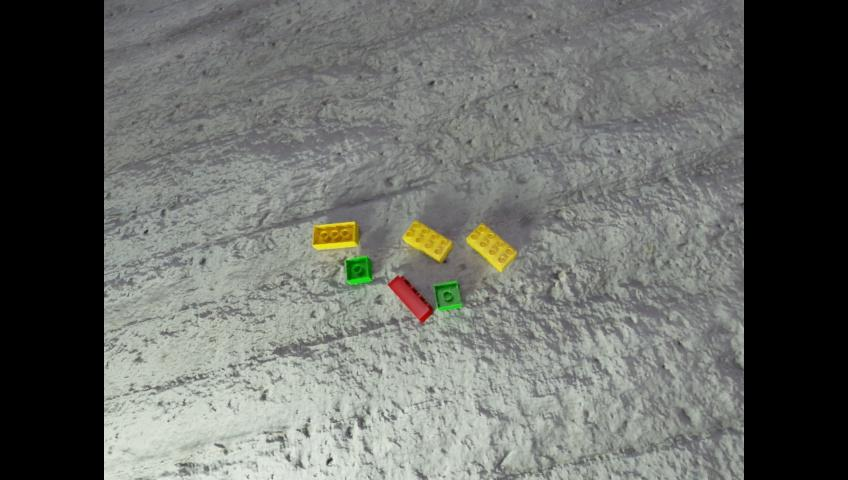2x2_green: (433, 280, 461, 310), (345, 255, 371, 283)
4x2_red: (387, 274, 432, 322)
4x2_yellow: (466, 222, 516, 271), (402, 219, 452, 263), (312, 221, 359, 249)
